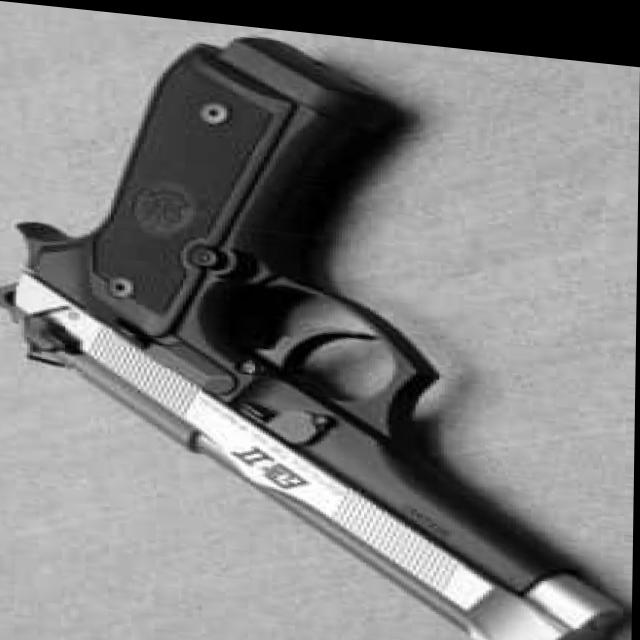handgun: (0, 10, 633, 640)
